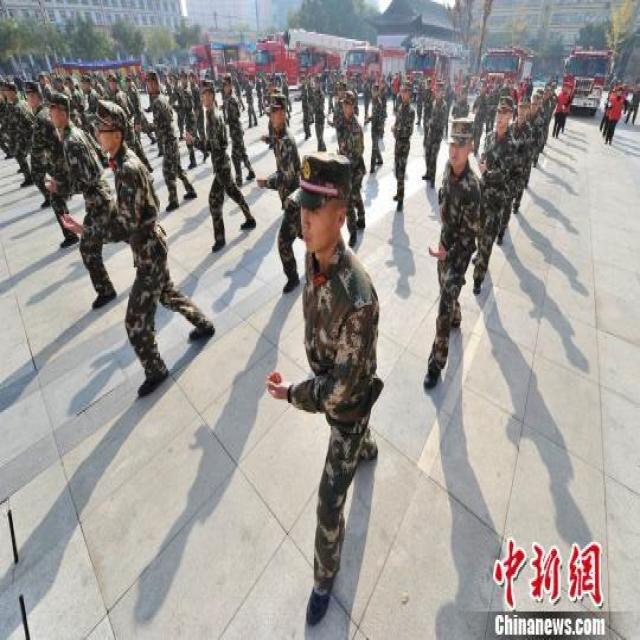non-fight: (262, 152, 383, 630), (61, 99, 217, 398), (420, 116, 483, 393), (192, 68, 260, 248), (140, 70, 194, 212)
